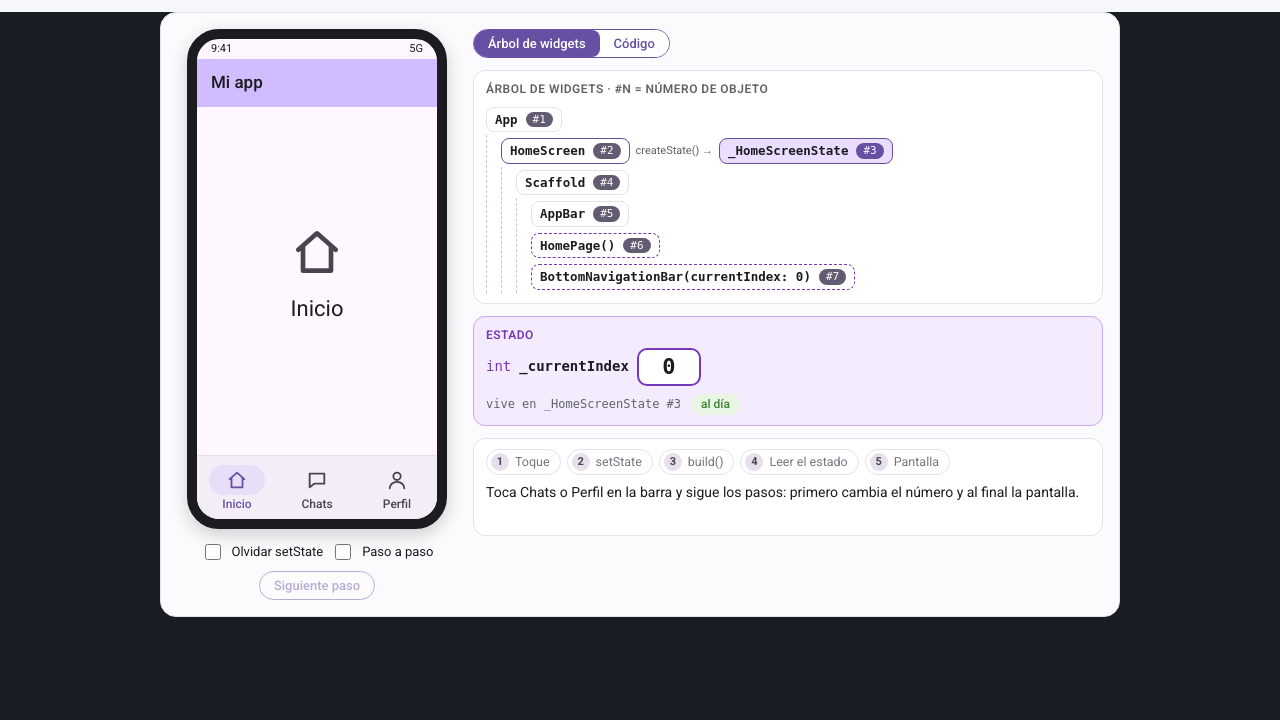
Test: state-tree › tabs: without setState the index moves but the bar and the body stay
The width and height of the screenshot is (1280, 720).
Step 1. Click the checkbox labelled "Olvidar setState" → coordinates (212, 552), box 204,544 -> 220,560
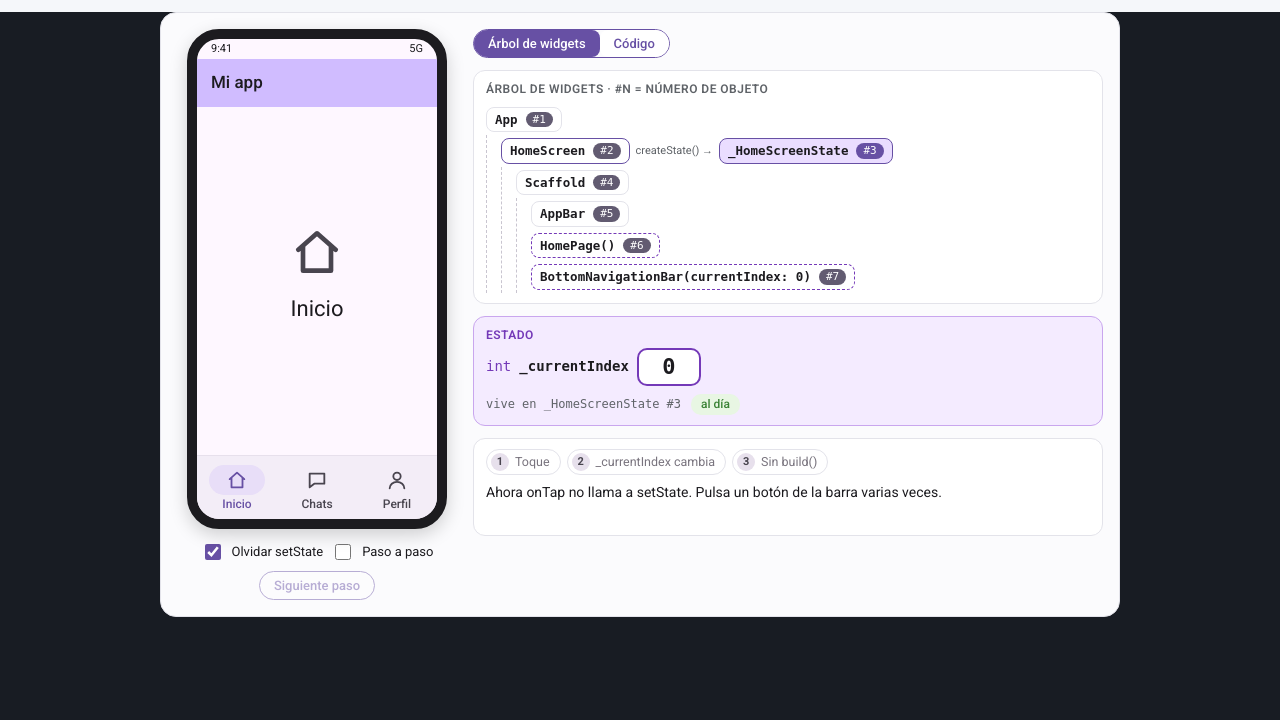
Step 2. Click the button with aria-label "Pestaña Perfil" → coordinates (397, 488), box 357,456 -> 437,519
Wait 4400 ms
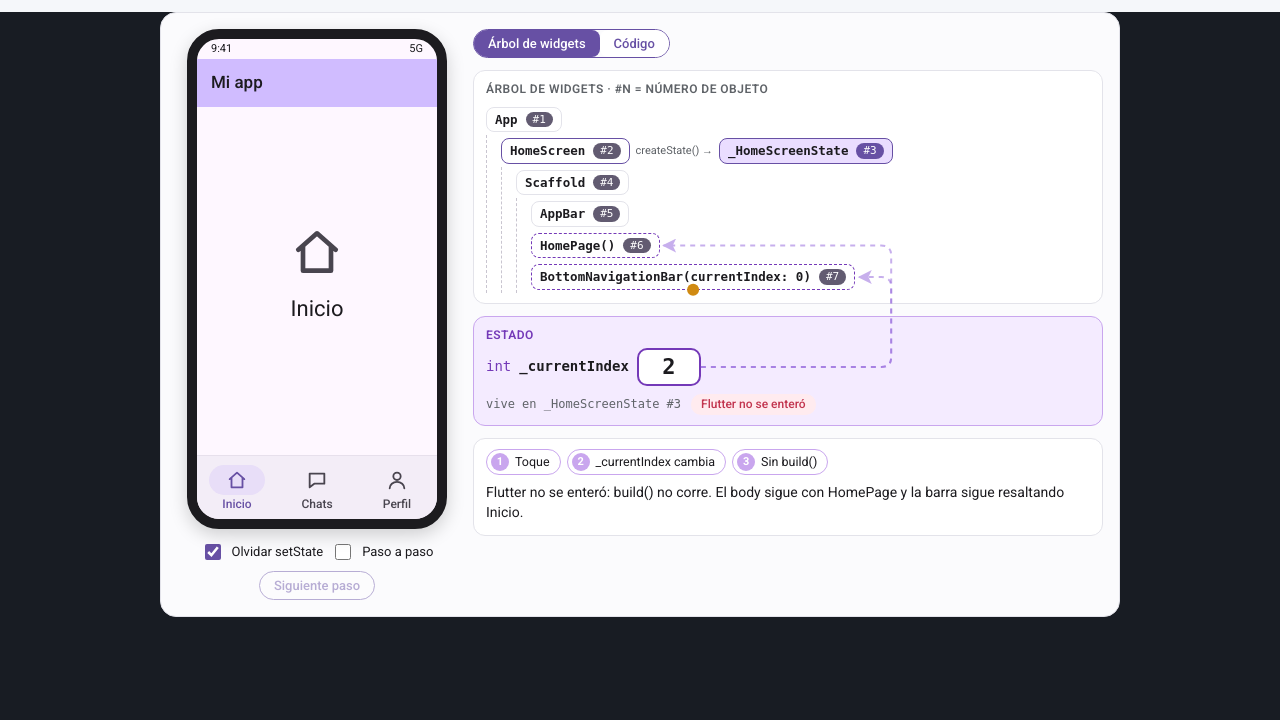
Expected: the text with test id "var-_currentIndex" reads "2", 662,354 -> 676,379
Expected: the text "Flutter no se enteró" is shown, 691,394 -> 816,415
